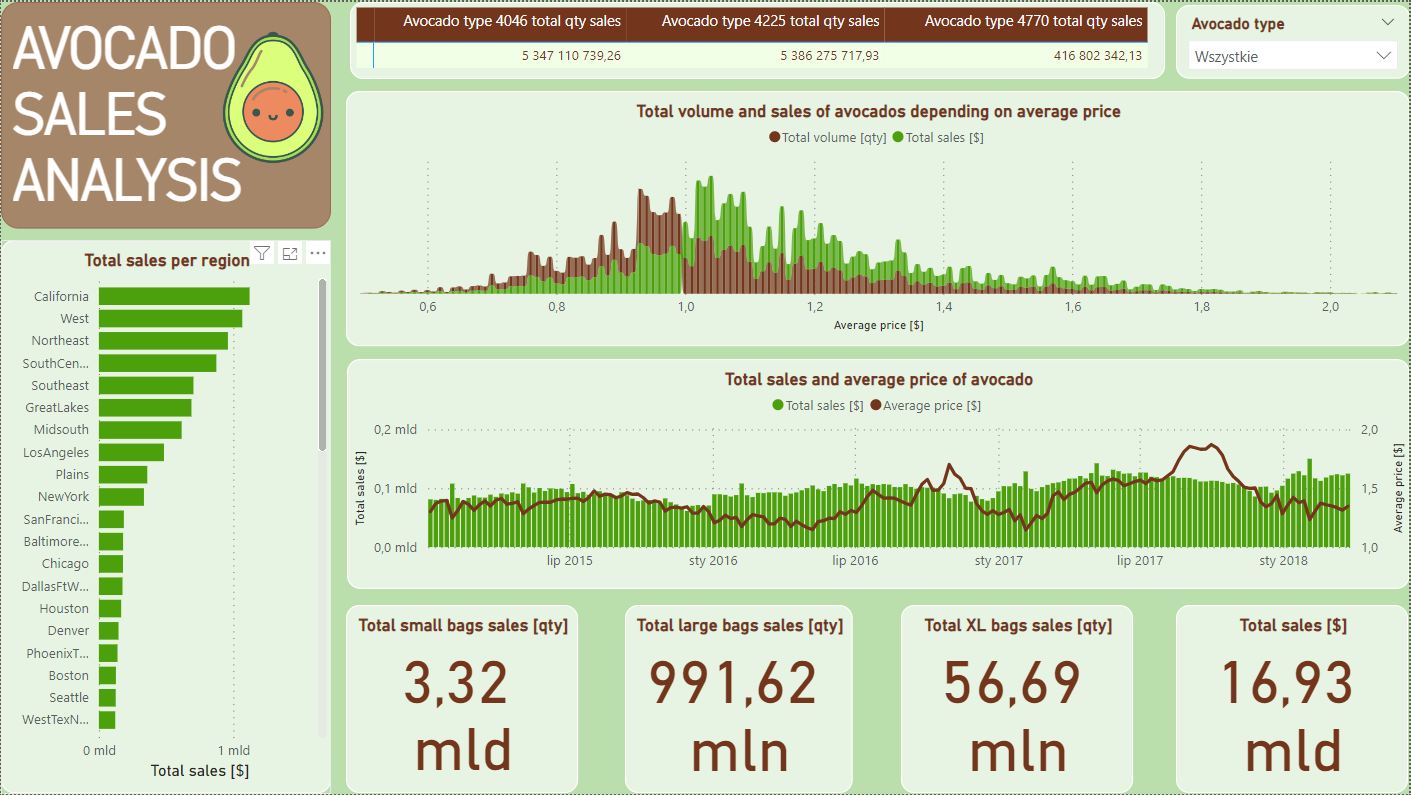

The dashboard page shown, as its layout file describes it:
{"tool":"powerbi","page":{"name":"Strona 1","canvas":[1280,720],"ordinal":0},"visuals":[{"type":"textbox","box":[0,0,300,205.7],"z":0},{"type":"image","box":[176.9,12.3,139.8,148.1],"z":1000},{"type":"pivotTable","fields":{"Values":["Sum(avocado.4046)","Sum(avocado.4225)","Sum(avocado.4770)"]},"box":[317.1,0,741.4,70],"z":2000},{"type":"clusteredBarChart","title":"Total sales per region","fields":{"Category":["avocado.region"],"Y":["avocado.Total sold"]},"box":[0,216.6,300.3,503.2],"z":3000},{"type":"lineStackedColumnComboChart","title":"Total sales and average price of avocado","fields":{"Y":["avocado.Total sold"],"Y2":["Avg(avocado.AveragePrice)"],"Category":["avocado.Date"]},"box":[314.3,324.3,965.7,208.6],"z":4000},{"type":"card","title":"Total small bags sales [qty]","fields":{"Values":["Sum(avocado.Small Bags)"]},"box":[314,548.6,211.4,171],"z":5000},{"type":"card","title":"Total large bags sales [qty]","fields":{"Values":["Sum(avocado.Large Bags)"]},"box":[567.1,548.6,207.1,171.4],"z":6000},{"type":"card","title":"Total XL bags sales [qty]","fields":{"Values":["Sum(avocado.XLarge Bags)"]},"box":[818.6,548.6,211.4,171.4],"z":7000},{"type":"card","title":"Total sales [$]","fields":{"Values":["avocado.Total sold"]},"box":[1068.6,548.6,211.4,171.4],"z":8000},{"type":"ribbonChart","title":"Total volume and sales of avocados depending on average price","fields":{"Y":["Sum(avocado.Total Volume)","avocado.Total sold"],"Category":["avocado.AveragePrice"]},"box":[314,80.9,966.6,231.7],"z":9000},{"type":"slicer","fields":{"Values":["avocado.type"]},"box":[1068,2.7,212.5,67.2],"z":10000}]}

Visuals, with their boxes in screenshot pixels (x1, y1, x2, y2), scaled from the page's 1280x720 canvas onto the 1411x795 screenshot:
textbox: bbox(0, 0, 331, 227)
image: bbox(195, 14, 349, 177)
pivotTable - Sum(avocado.4046) x Sum(avocado.4225): bbox(350, 0, 1167, 77)
"Total sales per region" clusteredBarChart: bbox(0, 239, 331, 794)
"Total sales and average price of avocado" lineStackedColumnComboChart: bbox(346, 358, 1410, 588)
"Total small bags sales [qty]" card: bbox(346, 606, 579, 794)
"Total large bags sales [qty]" card: bbox(625, 606, 853, 794)
"Total XL bags sales [qty]" card: bbox(902, 606, 1135, 794)
"Total sales [$]" card: bbox(1178, 606, 1410, 794)
"Total volume and sales of avocados depending on average price" ribbonChart: bbox(346, 89, 1410, 345)
slicer - avocado.type: bbox(1177, 3, 1410, 77)
